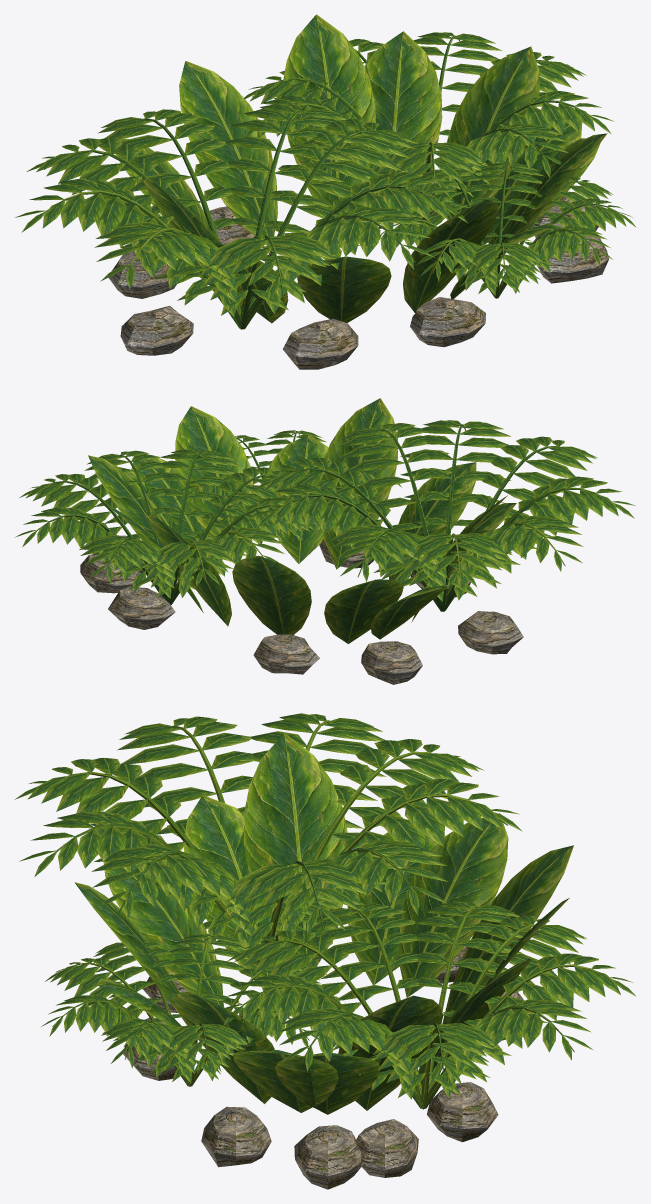
Rendered from FernGarden.fbx.
The picture shows the model from 3 angles, top to bottom: view 1: azimuth 30°, elevation 25°; view 2: azimuth 150°, elevation 25°; view 3: azimuth 270°, elevation 25°; orthographic projection. The views are drawn at different scales.
Parts seen in each view (by area): view 1: FernGarden_LOD0; view 2: FernGarden_LOD0; view 3: FernGarden_LOD0.
Boxes of the visible parts, x1,y1,x2,y2 form: FernGarden_LOD0: (15, 14, 636, 369); FernGarden_LOD0: (15, 398, 635, 684); FernGarden_LOD0: (14, 713, 636, 1189).
Size of what is drawn, in the model's own units: 3.74 by 1.09 by 2.94.
